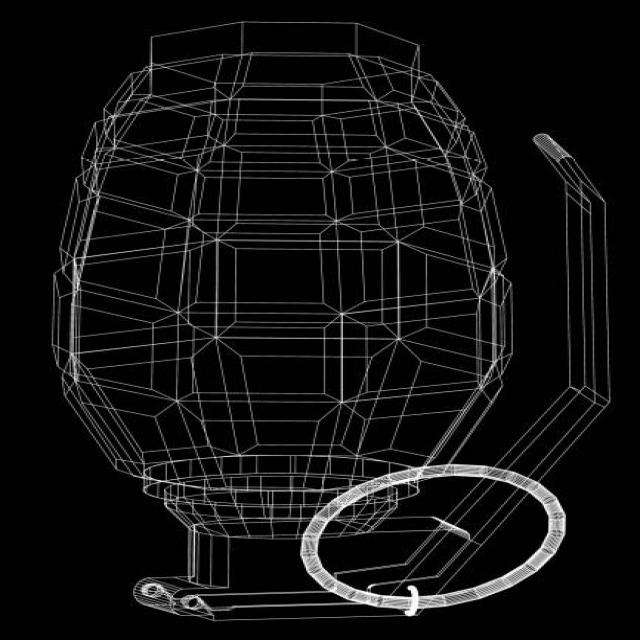grenade: (40, 19, 614, 631)
